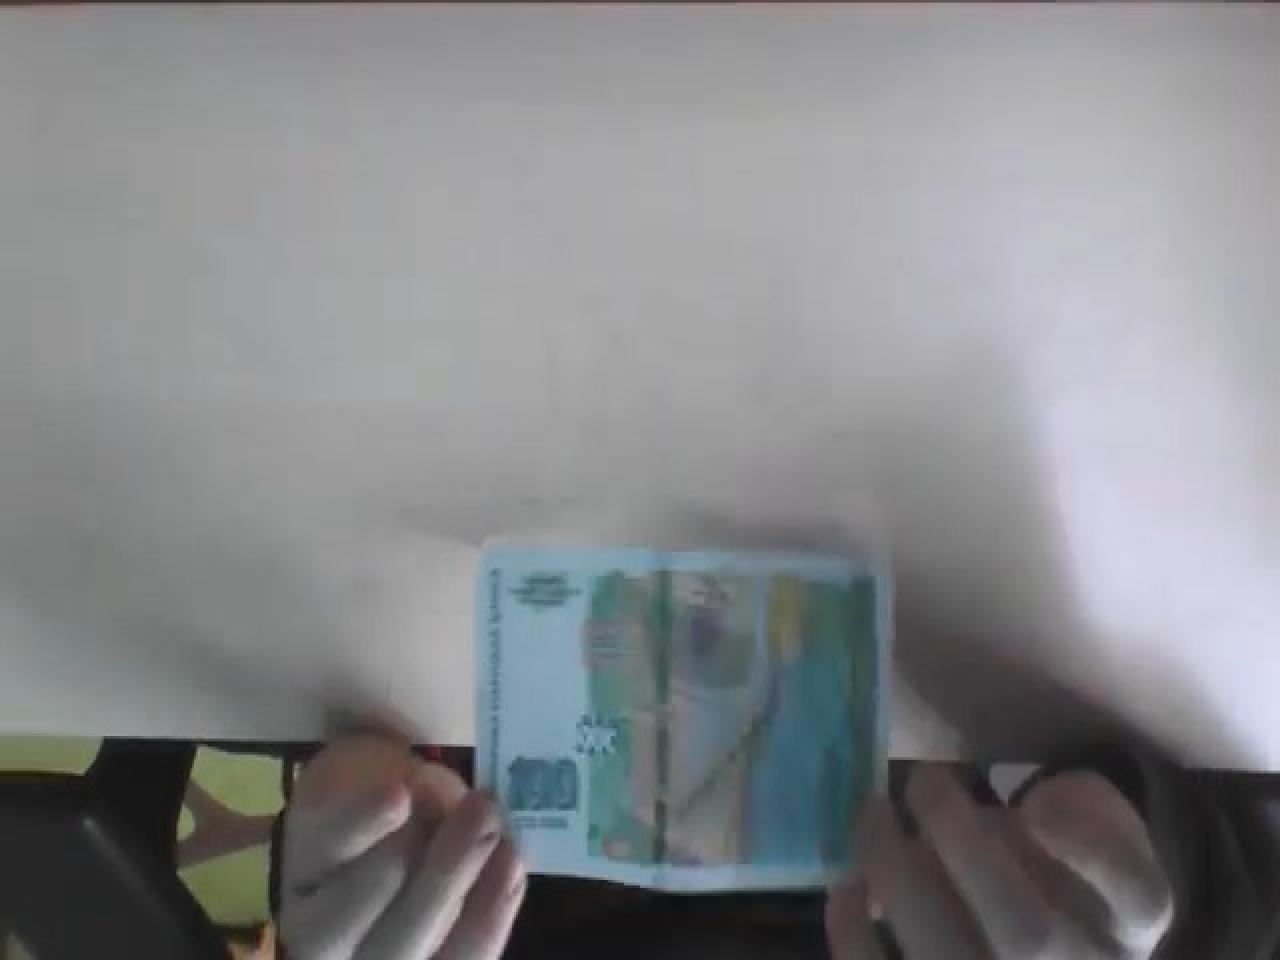100leva: (472, 536, 894, 898)
